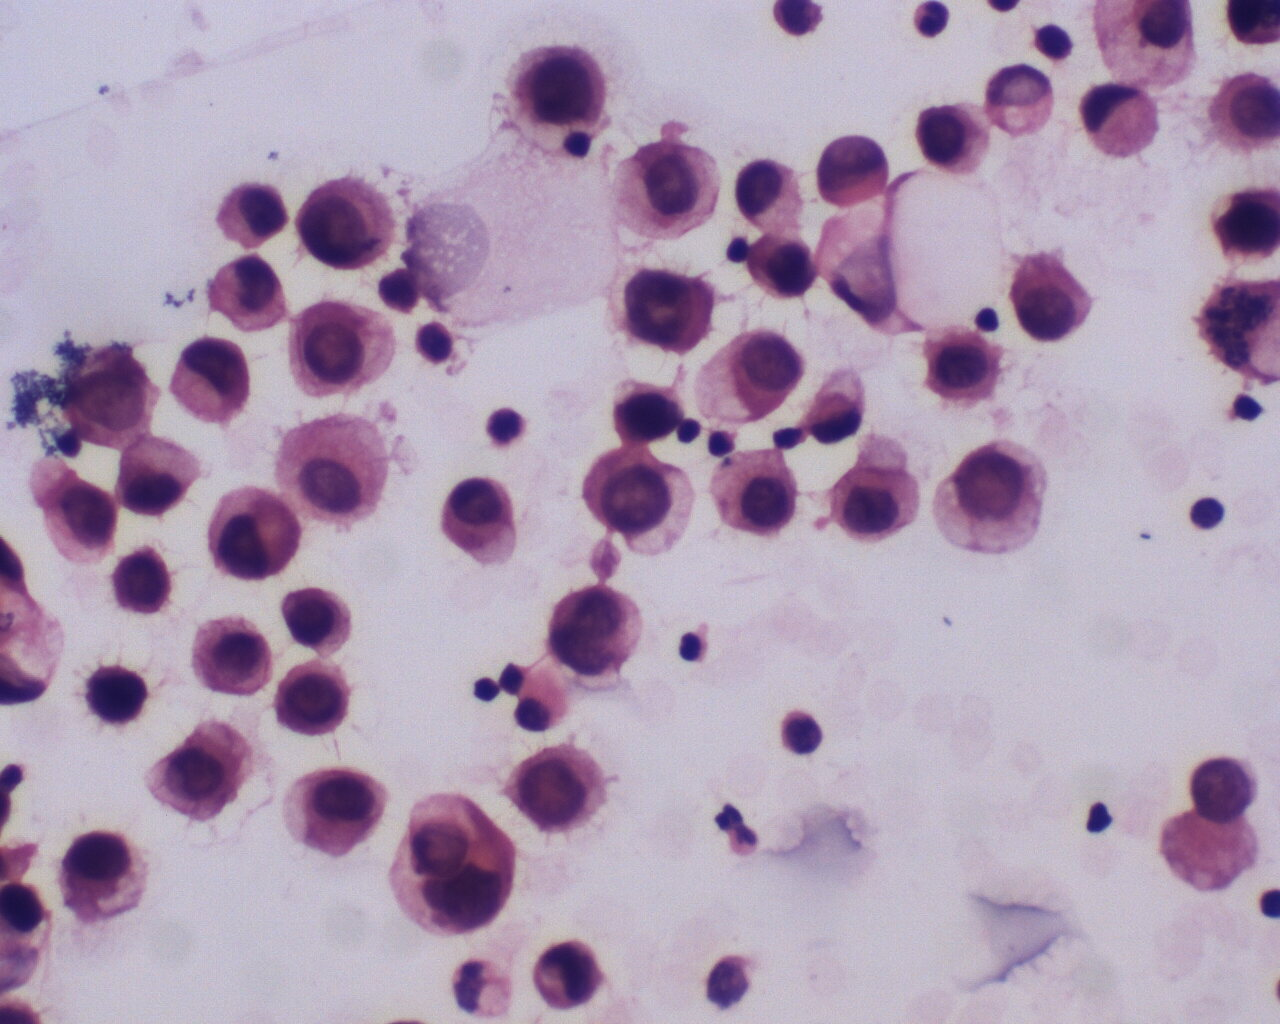ab: (386, 794, 529, 941), (932, 434, 1045, 555), (584, 444, 700, 560), (283, 301, 402, 409), (696, 323, 806, 432), (54, 827, 160, 931), (512, 43, 616, 147), (27, 459, 120, 572), (507, 739, 612, 838), (296, 176, 399, 274), (545, 581, 645, 681), (207, 482, 303, 583), (622, 260, 717, 360), (711, 445, 801, 542), (166, 339, 263, 428), (1008, 250, 1097, 345), (921, 321, 1005, 409), (207, 249, 290, 336), (273, 661, 354, 742), (813, 130, 895, 209), (215, 173, 290, 259), (278, 584, 360, 660), (77, 660, 155, 734), (107, 543, 176, 618)
lymph: (1186, 492, 1233, 540)
meso: (438, 474, 528, 572), (827, 458, 923, 543), (1079, 80, 1161, 160)
